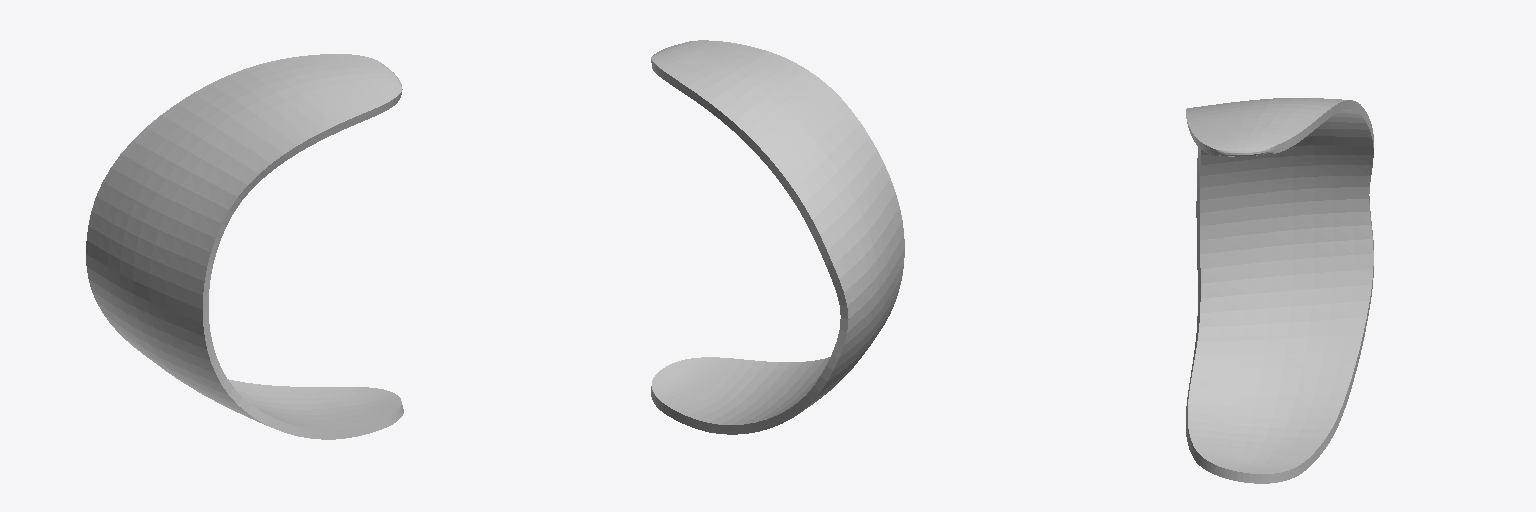
Rendered from visorOnlyV2.obj.
The picture shows the model from 3 angles: view 1: azimuth 30°, elevation 25°; view 2: azimuth 150°, elevation 25°; view 3: azimuth 270°, elevation 25°; orthographic projection.
Parts seen in each view (by area): view 1: 10517_Motorcycle_Helmet_v01_L3; view 2: 10517_Motorcycle_Helmet_v01_L3; view 3: 10517_Motorcycle_Helmet_v01_L3.
Boxes of the visible parts, <box> form: 10517_Motorcycle_Helmet_v01_L3: <box>86,54,403,439</box>; 10517_Motorcycle_Helmet_v01_L3: <box>651,40,904,434</box>; 10517_Motorcycle_Helmet_v01_L3: <box>1186,98,1373,483</box>.
Size of the model in its own units: 25.67 by 33.54 by 16.75.